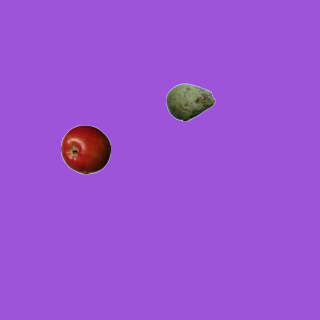Apple Braeburn: (60, 124, 110, 174)
Pear Stone: (165, 77, 215, 127)
